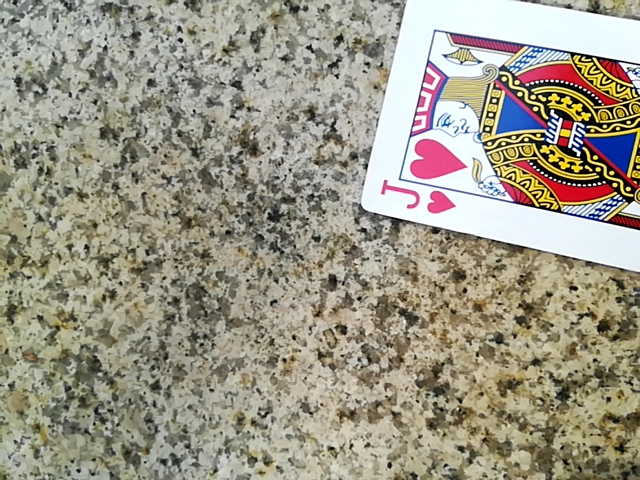hx j: (359, 0, 640, 295)
